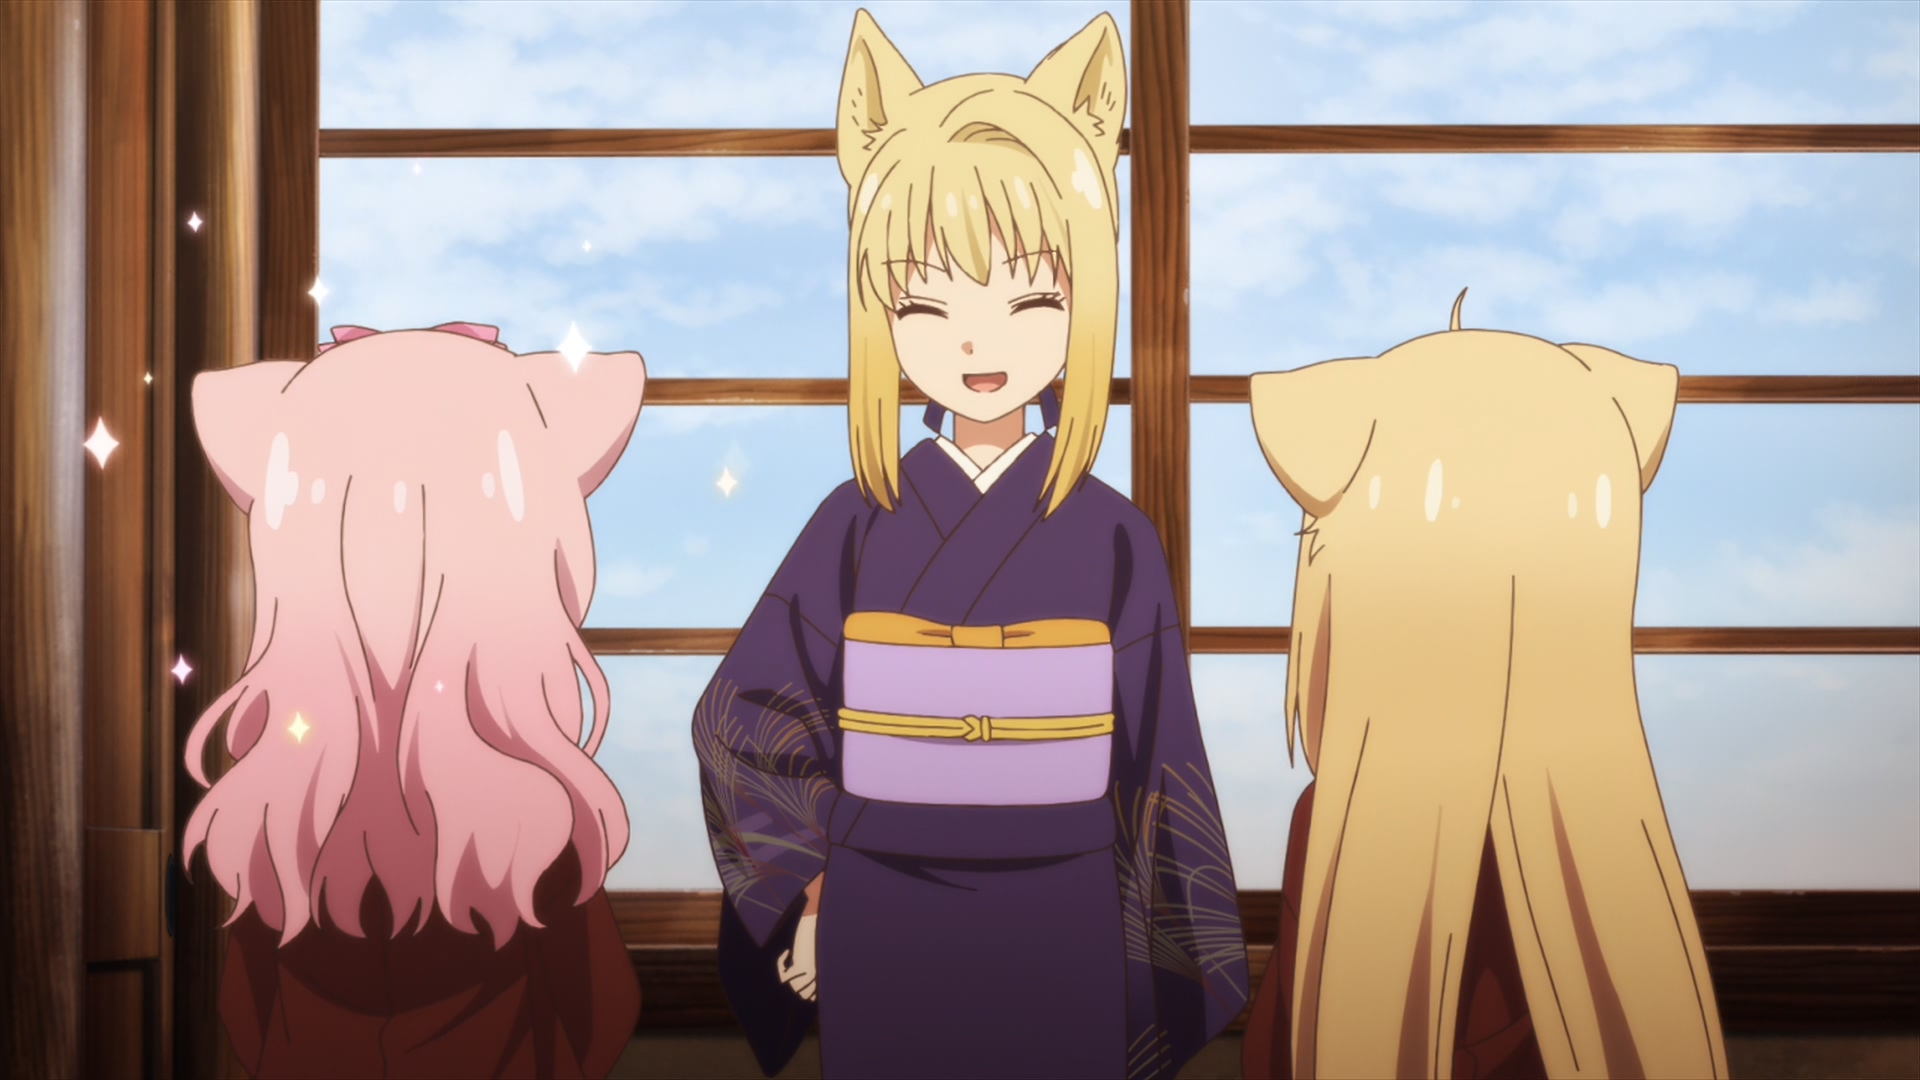柚: (1250, 289, 1730, 1080)
桐: (690, 9, 1255, 1080)
莲: (179, 322, 647, 1080)
